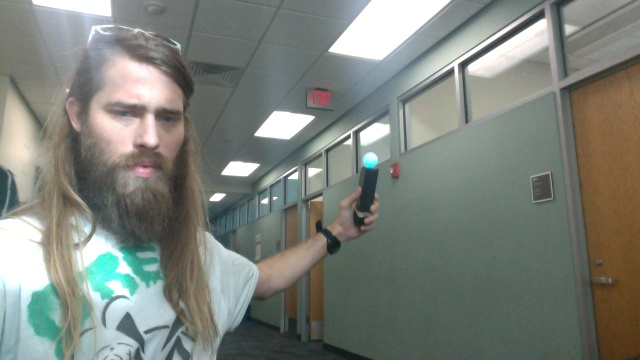wand: (363, 153, 378, 169)
